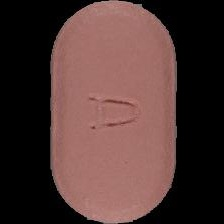67296-0683: (0, 0, 224, 224)
